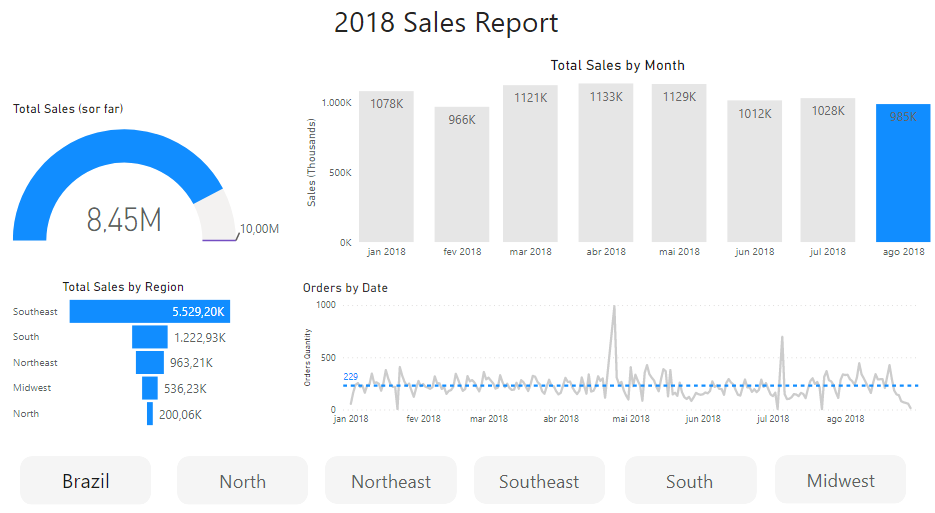

The dashboard page shown, as its layout file describes it:
{"tool":"powerbi","page":{"name":"brasil","canvas":[1280,720],"ordinal":0},"visuals":[{"type":"shape","box":[671.3,610.3,171.7,63.5],"z":0},{"type":"shape","box":[1066.7,608.2,172.5,63.5],"z":1000},{"type":"shape","box":[281.4,609.7,172.5,63.5],"z":2000},{"type":"shape","box":[476.6,610.3,173.1,63.5],"z":3000},{"type":"shape","box":[869.1,610.3,173.1,63.5],"z":4000},{"type":"shape","box":[75.7,609.7,172.5,63.5],"z":5000},{"type":"clusteredColumnChart","title":"Total Sales by Month","fields":{"Category":["monthly_sales_2018.date.Variation.Date Hierarchy.Month"],"Y":["Sum(monthly_sales_2018.total_sales)"]},"box":[444.8,84.7,830.6,275.4],"z":6000},{"type":"actionButton","box":[75.7,602.2,172.5,77.2],"z":7000},{"type":"actionButton","box":[281.4,603.7,172.5,77.2],"z":8000},{"type":"actionButton","box":[671.8,603.7,171,77.2],"z":9000},{"type":"actionButton","box":[476.6,603.7,172.5,77.2],"z":10000},{"type":"actionButton","box":[1066.7,602.2,172.5,77.2],"z":11000},{"type":"actionButton","box":[868.5,603.7,172.5,77.2],"z":12000},{"type":"gauge","title":"Total Sales (sor far)","fields":{"Y":["Sum(monthly_sales_2018.total_sales)"]},"box":[62,144.9,364.6,201.2],"z":13000},{"type":"textbox","box":[482.7,8.7,314.5,69.3],"z":14000},{"type":"funnel","title":"Total Sales by Region","fields":{"Y":["Sum(southeast_monthly_sales_2018.total_sales)","Sum(south_monthly_sales_2018.total_sales)","Sum(northeast_monthly_sales_2018.total_sales)","Sum(midwest_monthly_sales_2018.total_sales)","Sum(north_monthly_sales_2018.total_sales)"]},"box":[62,377.9,299.6,199.7],"z":15000},{"type":"lineChart","title":"Orders by Date","fields":{"Y":["Sum(orders_per_day.orders)"],"Category":["orders_per_day.date"]},"box":[441.6,379.2,832,200],"z":16000}]}

Visuals, with their boxes in screenshot pixels (x1, y1, x2, y2), scaled from the page's 1280x720 canvas onto the 935x513 screenshot:
shape: x1=490, y1=435, x2=616, y2=480
shape: x1=779, y1=433, x2=905, y2=479
shape: x1=206, y1=434, x2=332, y2=480
shape: x1=348, y1=435, x2=475, y2=480
shape: x1=635, y1=435, x2=761, y2=480
shape: x1=55, y1=434, x2=181, y2=480
"Total Sales by Month" clusteredColumnChart: x1=325, y1=60, x2=932, y2=257
actionButton: x1=55, y1=429, x2=181, y2=484
actionButton: x1=206, y1=430, x2=332, y2=485
actionButton: x1=491, y1=430, x2=616, y2=485
actionButton: x1=348, y1=430, x2=474, y2=485
actionButton: x1=779, y1=429, x2=905, y2=484
actionButton: x1=634, y1=430, x2=760, y2=485
"Total Sales (sor far)" gauge: x1=45, y1=103, x2=312, y2=247
textbox: x1=353, y1=6, x2=582, y2=56
"Total Sales by Region" funnel: x1=45, y1=269, x2=264, y2=412
"Orders by Date" lineChart: x1=323, y1=270, x2=930, y2=413
